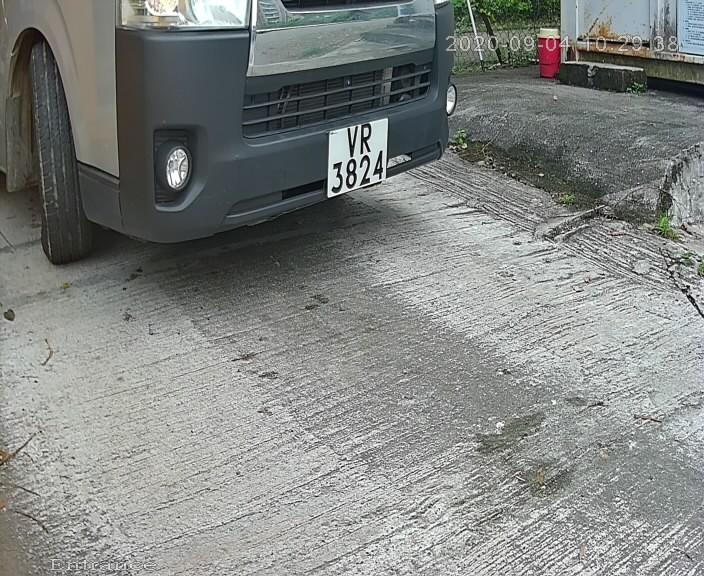License Plate: (318, 106, 400, 206)
